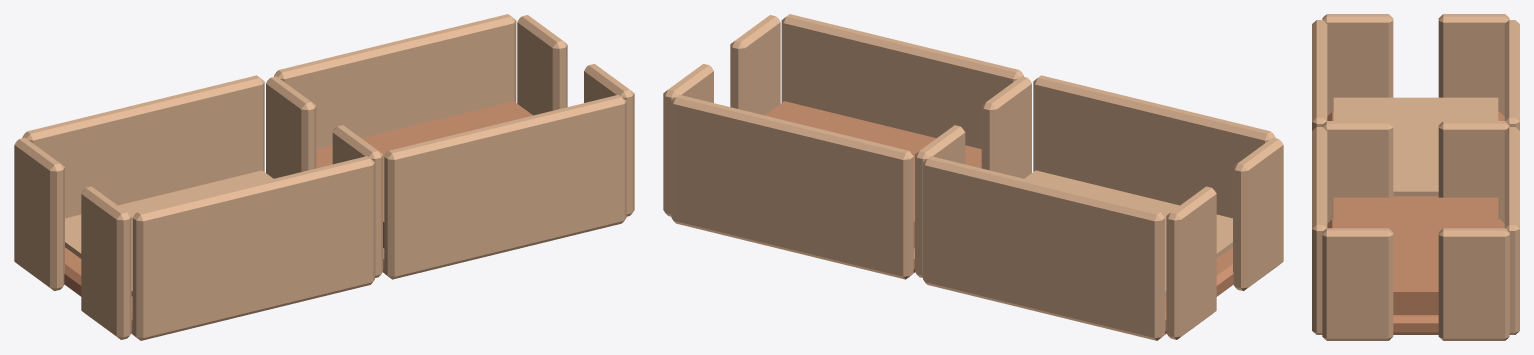
3 views of the same model, side by side, from view 1: azimuth 30°, elevation 25°; view 2: azimuth 150°, elevation 25°; view 3: azimuth 270°, elevation 25° (orthographic). The views are drawn at different scales.
Visible parts, largest first — view 1: RF-041 Overflow clay levigation chambers batched; view 2: RF-041 Overflow clay levigation chambers batched; view 3: RF-041 Overflow clay levigation chambers batched.
Part boxes in pixels (box(x1,y1,x2,y2)): RF-041 Overflow clay levigation chambers batched: box(14, 14, 634, 340); RF-041 Overflow clay levigation chambers batched: box(663, 14, 1283, 340); RF-041 Overflow clay levigation chambers batched: box(1312, 14, 1519, 340).
Bounding box in the file's own units: 2.06 × 0.48 × 0.82.
